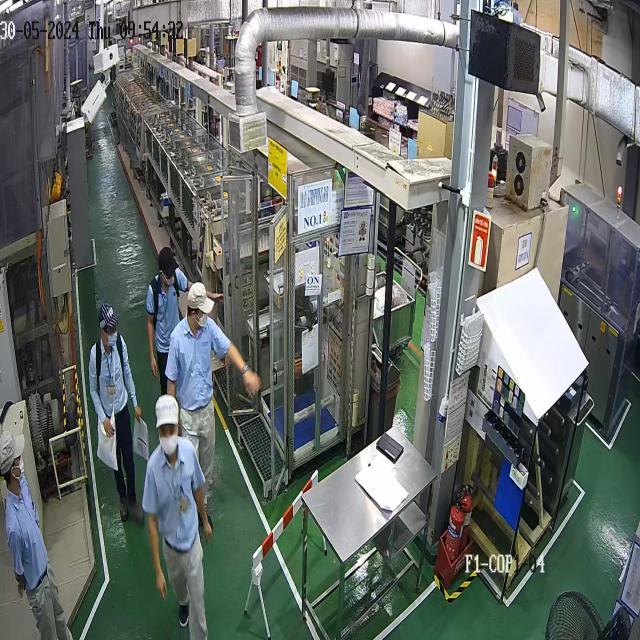Person: (164, 281, 262, 533), (141, 393, 213, 639), (0, 430, 74, 640), (88, 302, 144, 524), (146, 245, 223, 397)
